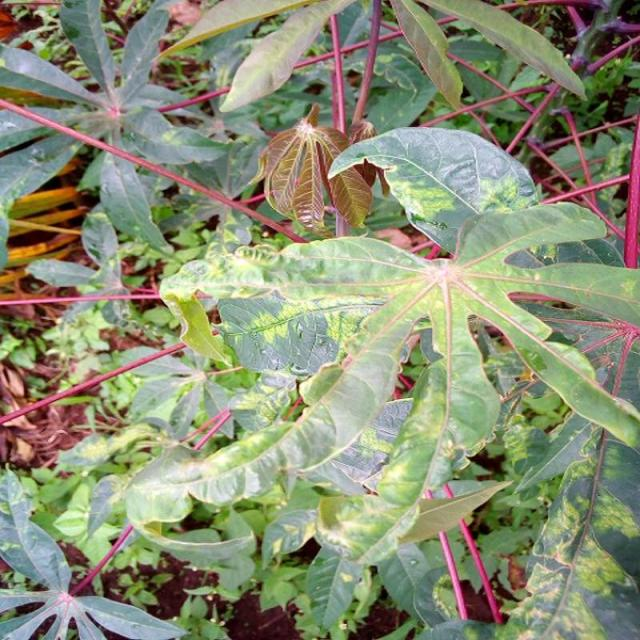cassava leaf: (128, 125, 638, 573), (326, 124, 541, 257)
